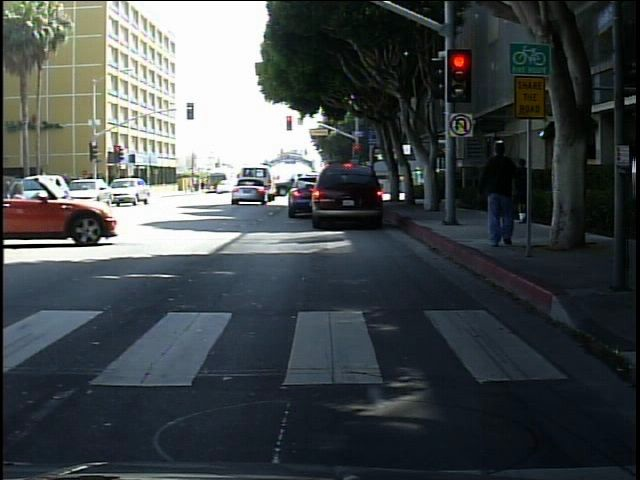person: (477, 130, 526, 254), (513, 147, 538, 232)
